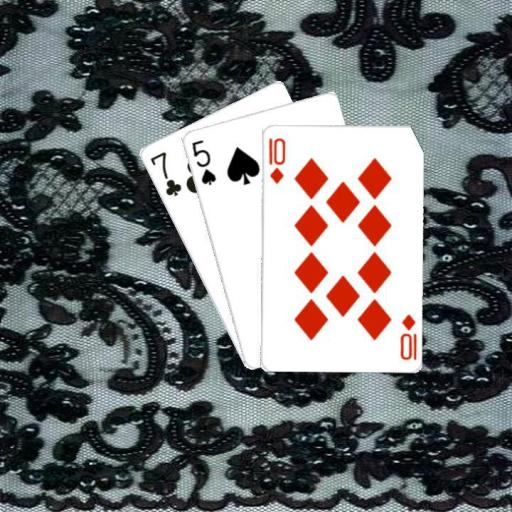10D: (264, 134, 286, 185), (397, 310, 417, 361)
5S: (188, 137, 217, 187)
7C: (146, 149, 183, 198)
